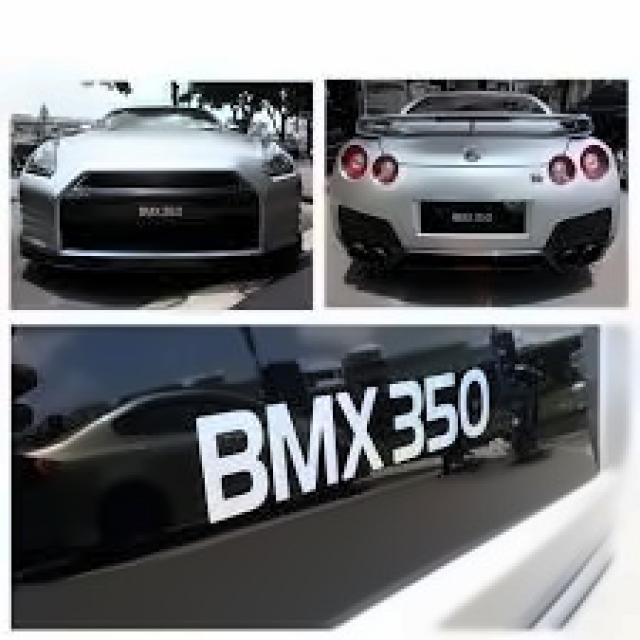car-plate: (11, 324, 602, 632), (421, 202, 530, 236), (110, 200, 222, 230)
